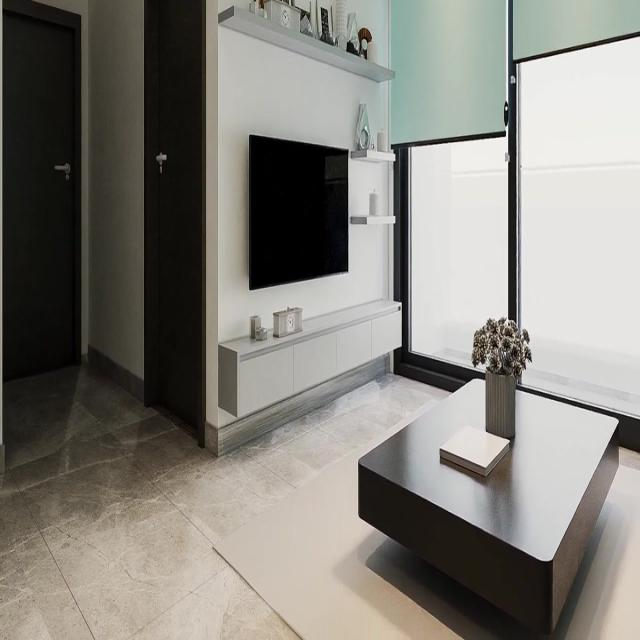door: (1, 0, 82, 381), (142, 0, 206, 444)
obstacle: (357, 375, 619, 636), (218, 294, 402, 418)
